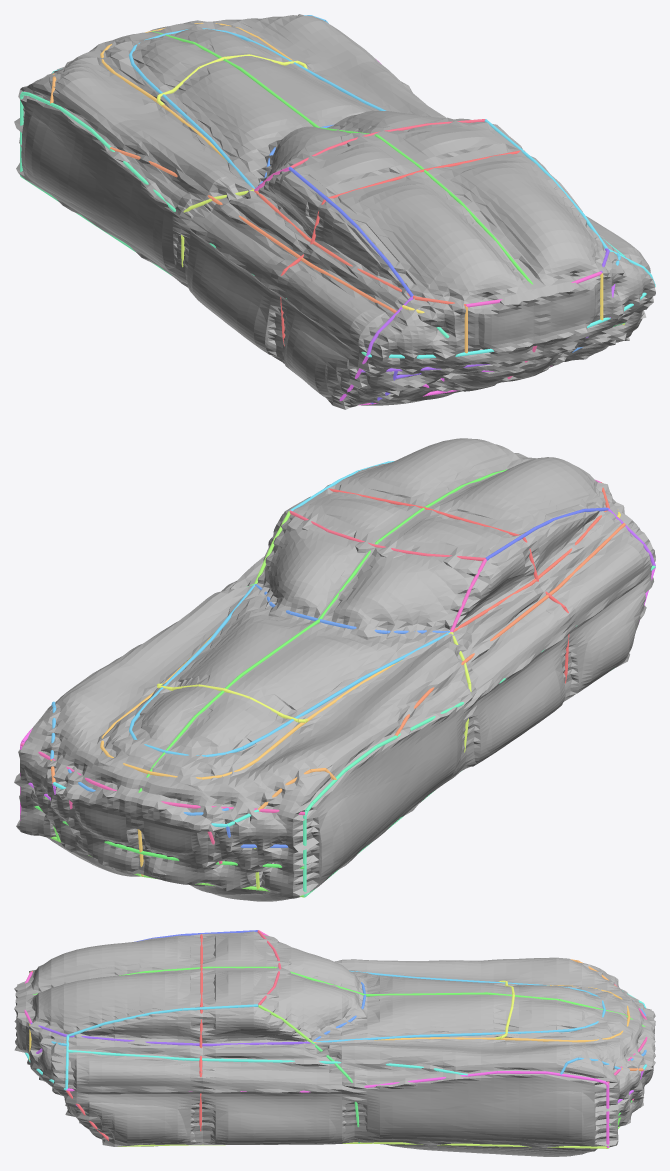
The model's file is t2f_car_93.gltf.
The picture shows the model from 3 angles, top to bottom: view 1: azimuth 30°, elevation 25°; view 2: azimuth 150°, elevation 25°; view 3: azimuth 270°, elevation 25°; orthographic projection. The views are drawn at different scales.
Bounding box in the file's own units: 0.4085 × 0.264 × 0.9257.
